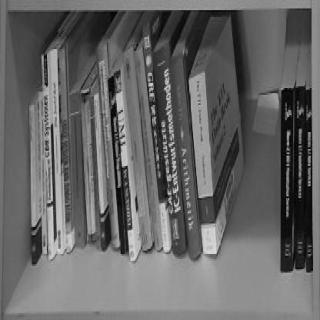book-spine: (152, 44, 187, 256), (169, 53, 202, 259), (122, 46, 154, 251), (142, 25, 169, 252), (134, 47, 164, 250), (188, 70, 217, 253), (96, 45, 120, 250), (114, 68, 136, 262), (106, 76, 129, 255), (49, 48, 62, 254), (59, 48, 72, 253), (41, 54, 54, 258), (280, 88, 293, 271), (70, 90, 85, 246), (81, 89, 96, 242), (89, 94, 102, 251), (94, 92, 106, 252), (304, 88, 314, 272), (295, 87, 305, 269), (38, 91, 47, 253), (30, 104, 36, 264)
